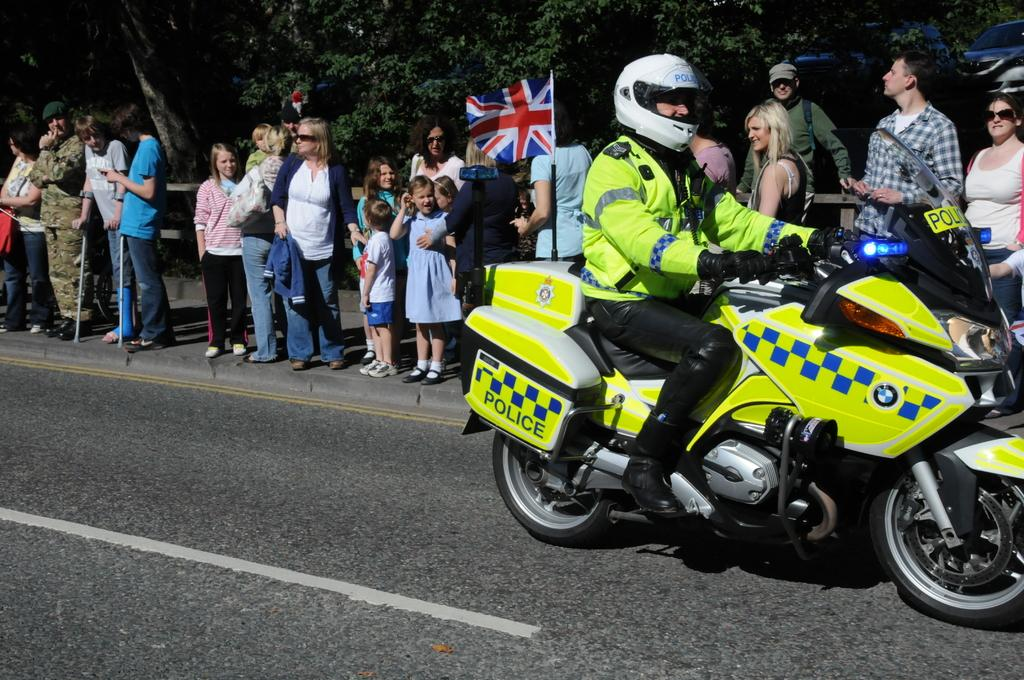helmet: (613, 53, 713, 155)
nohelmet: (882, 51, 937, 106), (745, 99, 790, 157), (982, 92, 1024, 142), (414, 115, 457, 159), (110, 102, 151, 144), (296, 117, 333, 160), (768, 63, 800, 102), (75, 114, 107, 152), (407, 175, 436, 215), (211, 143, 241, 181), (369, 155, 399, 193), (362, 199, 393, 233), (266, 124, 293, 160), (43, 101, 69, 138), (8, 129, 34, 160)
